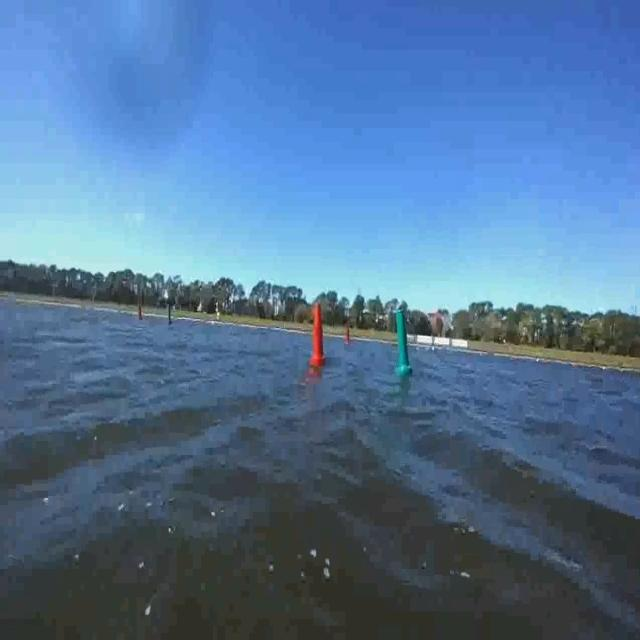green-column-buoy: (393, 308, 412, 375), (165, 303, 172, 326)
red-column-buoy: (310, 302, 327, 366), (138, 302, 145, 322), (346, 326, 352, 344)
